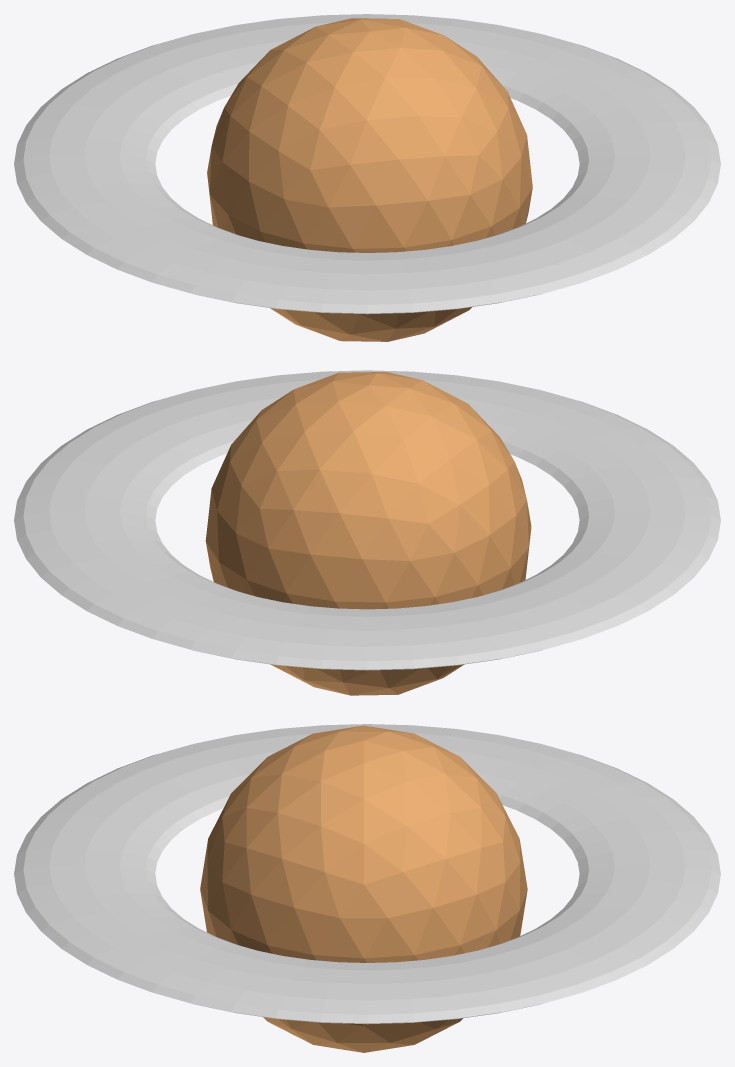
The model's file is saturne base.fbx.
3 renders of one model, top to bottom at view 1: azimuth 30°, elevation 25°; view 2: azimuth 150°, elevation 25°; view 3: azimuth 270°, elevation 25°, orthographic.
Visible parts, largest first — view 1: Tore, Icosphère; view 2: Tore, Icosphère; view 3: Tore, Icosphère.
Part boxes in pixels (x1,y1,x2,y2): Tore: [14, 14, 720, 314]; Icosphère: [207, 18, 532, 341]; Tore: [14, 370, 720, 670]; Icosphère: [205, 372, 531, 695]; Tore: [14, 724, 720, 1024]; Icosphère: [200, 725, 527, 1052].
Bounding box in the file's own units: 395 × 183 × 395.
